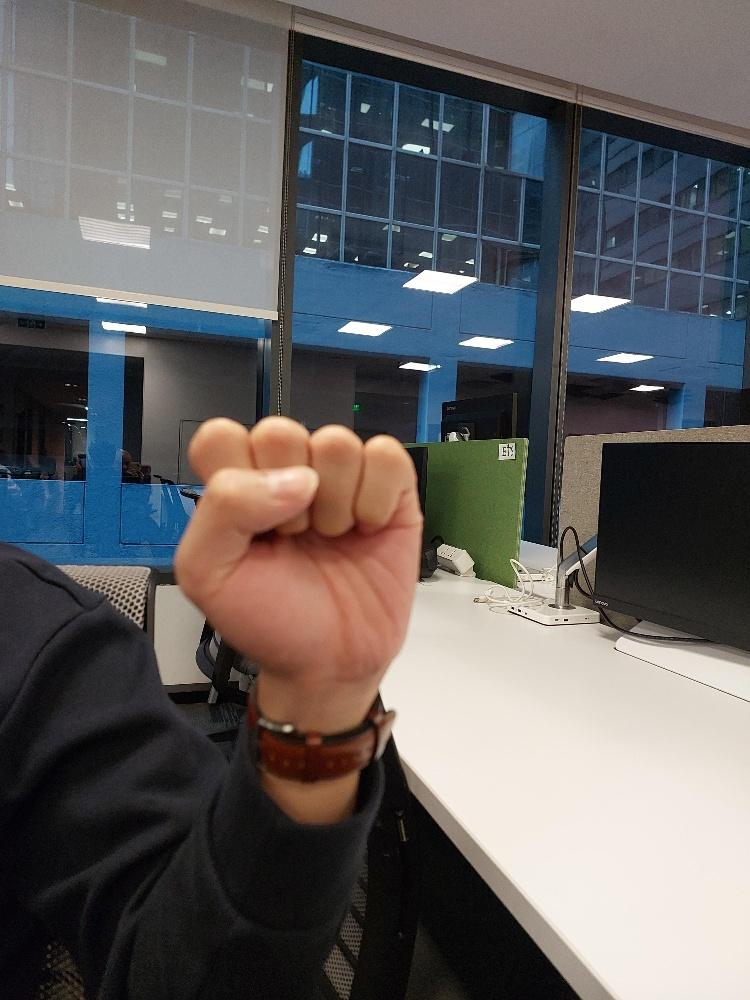s: (175, 415, 420, 670)
